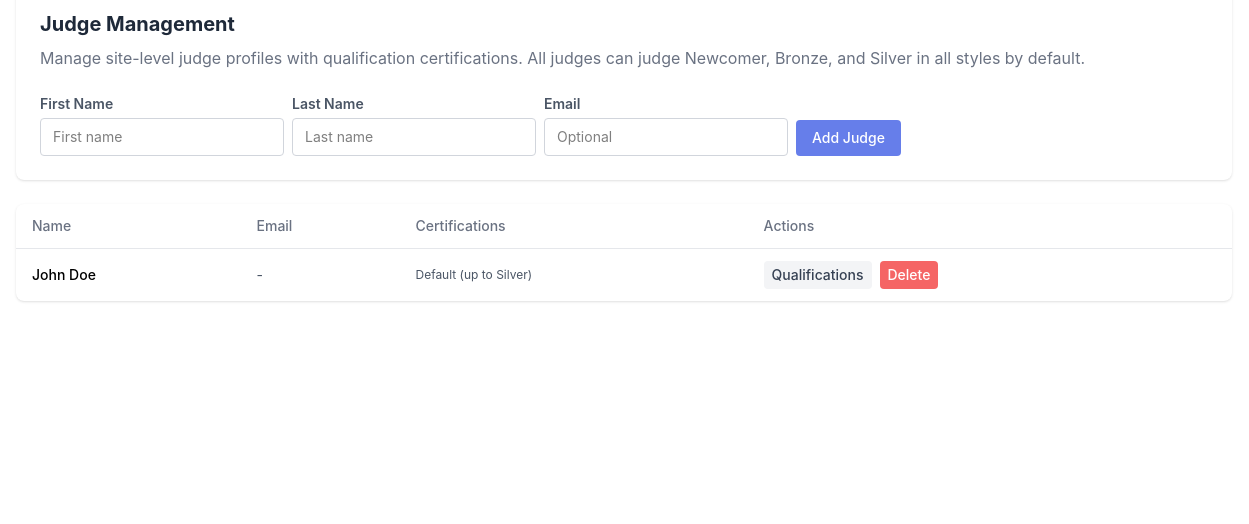
JudgeProfilesPage › should expand qualification matrix on click
The image size is (1249, 524).
Click the button "Qualifications" at [818, 275], box x1=764 y1=261 x2=872 y2=289
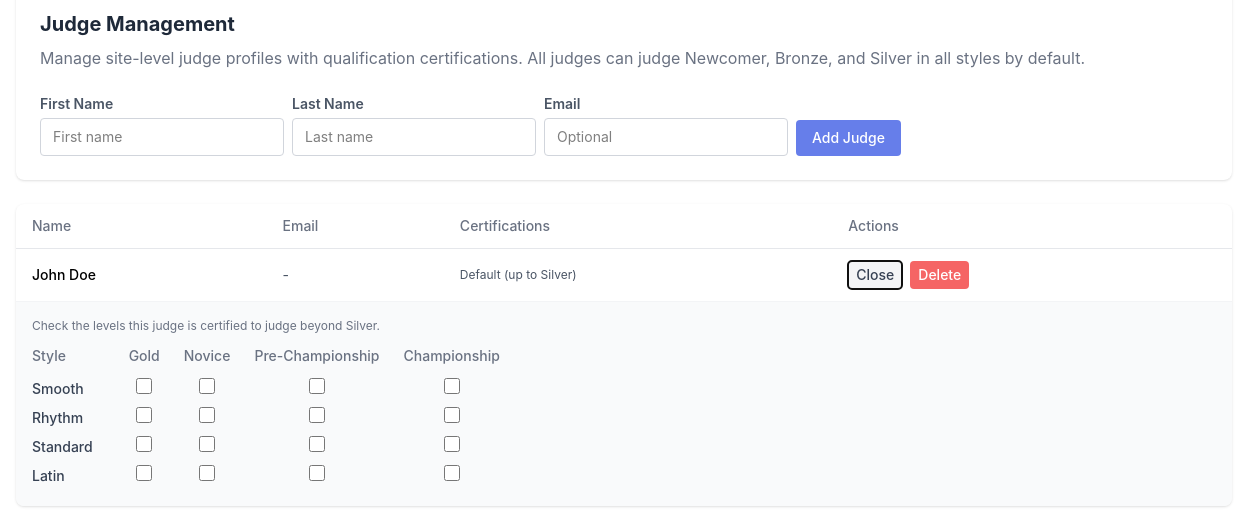
Now the text "Smooth" is shown, box x1=32 y1=374 x2=117 y2=403
Now the text "Rhythm" is shown, box x1=32 y1=403 x2=117 y2=432
Now the text "Standard" is shown, box x1=32 y1=432 x2=117 y2=461
